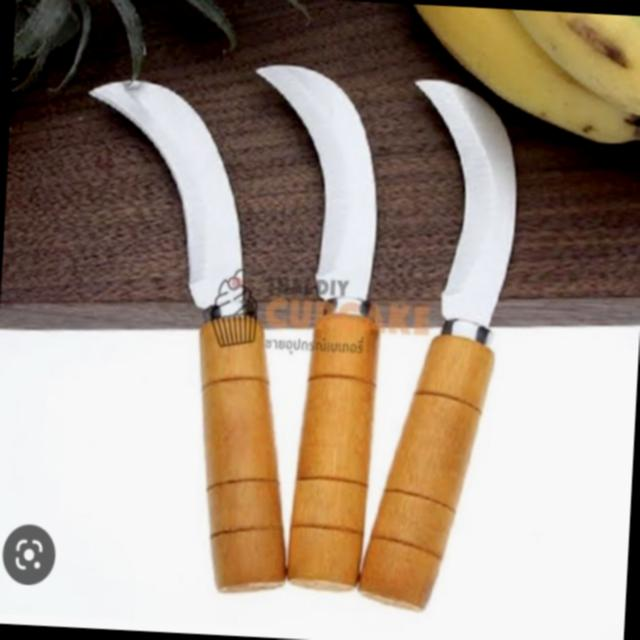knife: (56, 54, 563, 624)
